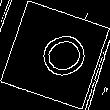O_SW: (23, 24, 87, 86)
